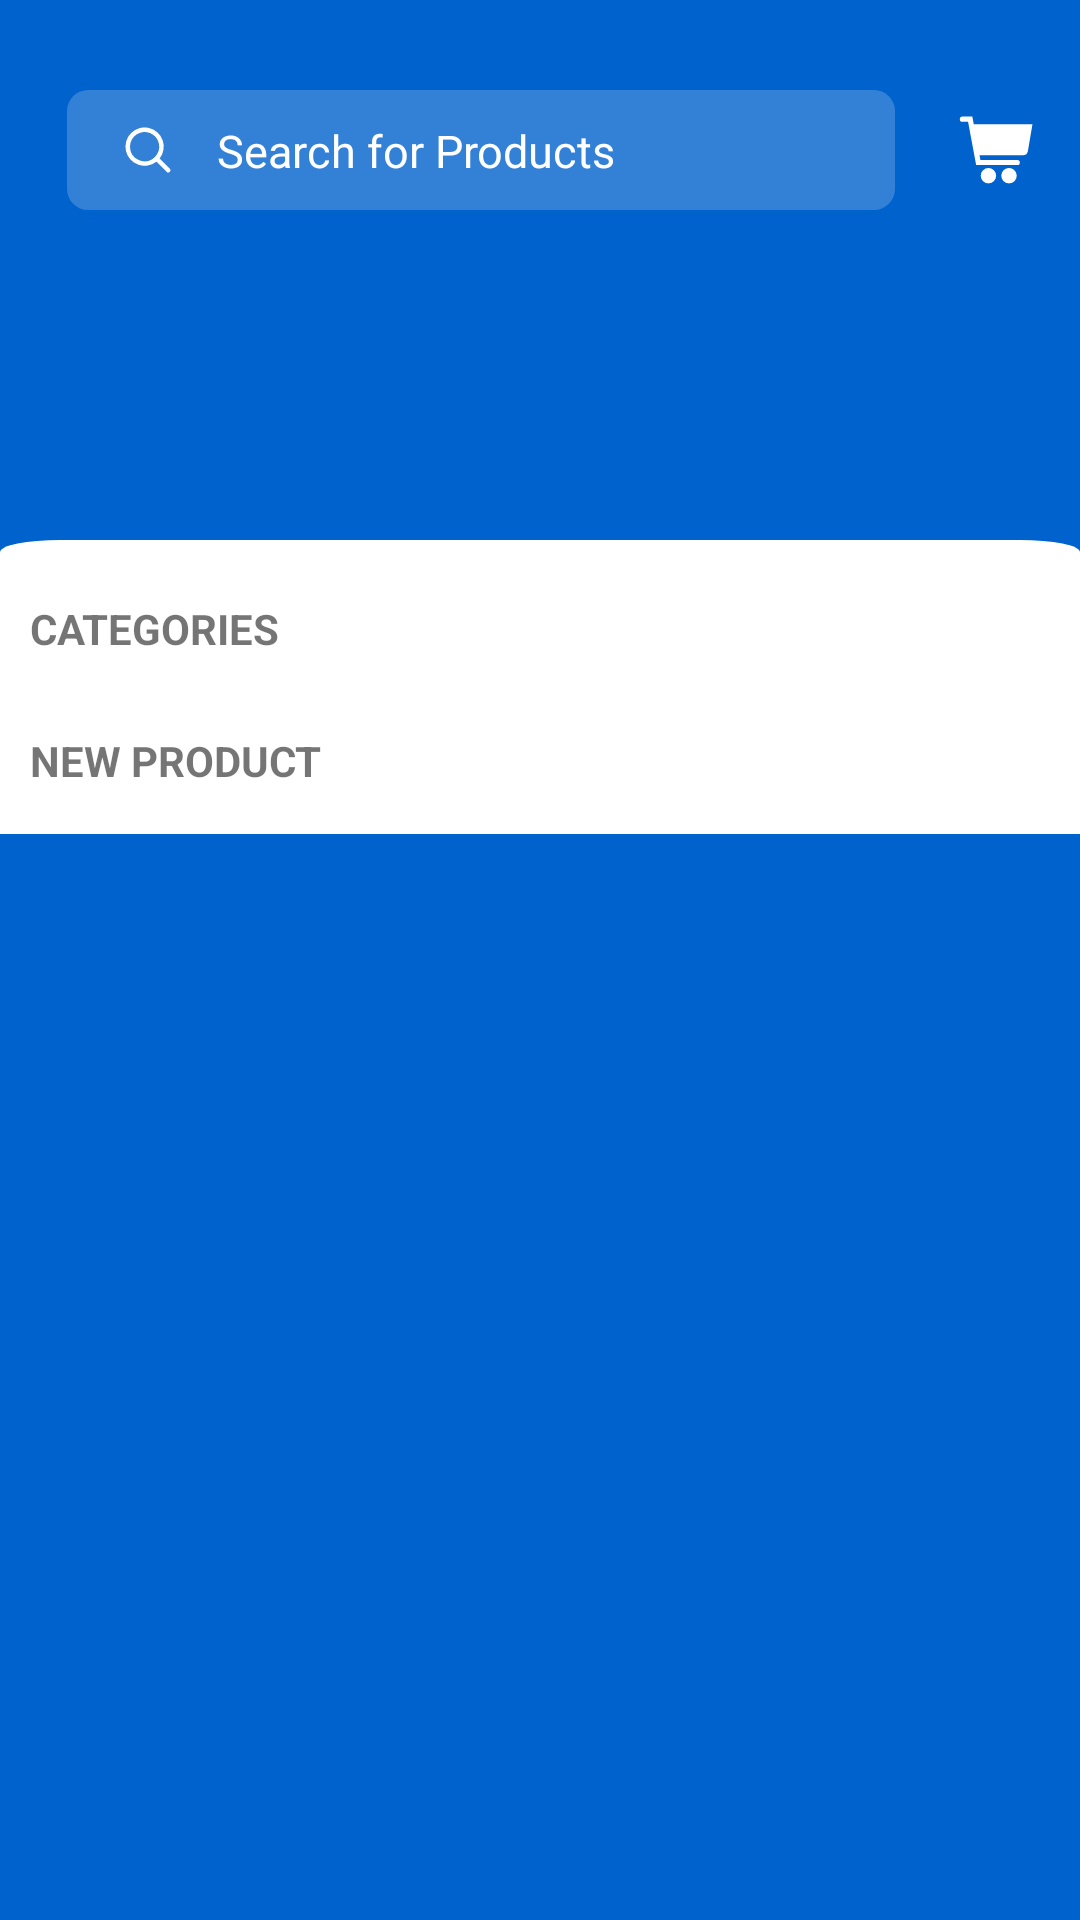

Where icons sit on this 1080*1920 app screen, as (x1, y1, x2, y2):
cart: (959, 116, 1033, 184)
